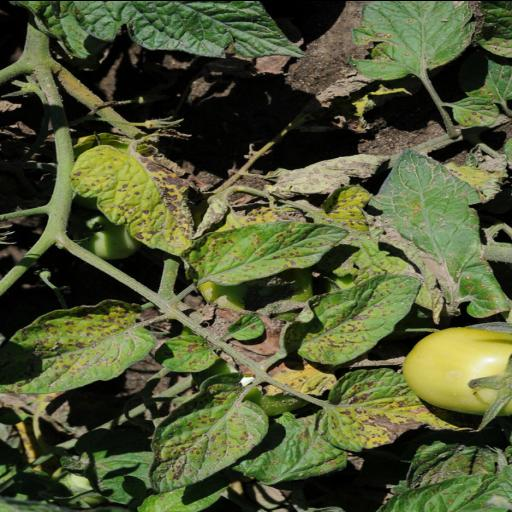disease_tomato: (366, 149, 512, 319), (0, 296, 156, 394), (66, 140, 198, 254), (66, 0, 310, 60), (310, 368, 475, 452), (276, 272, 424, 364), (146, 391, 269, 495), (180, 218, 350, 288), (347, 0, 478, 80), (228, 410, 350, 482), (155, 332, 217, 374), (448, 94, 502, 126)
